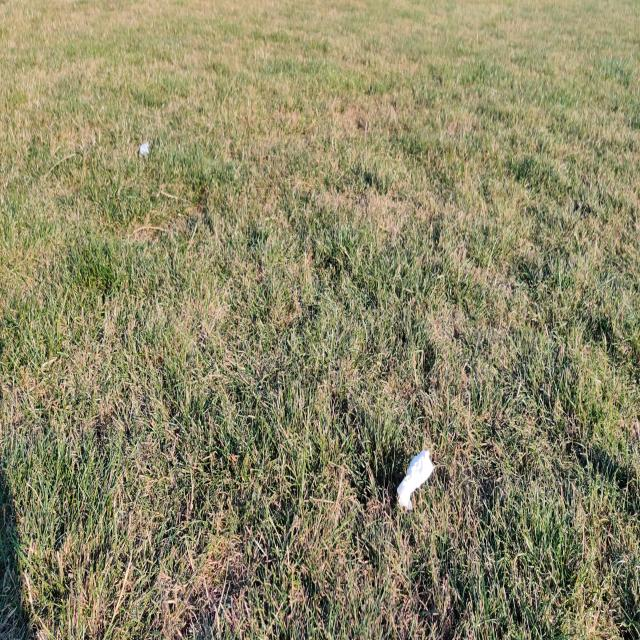litter: (393, 452, 436, 513)
